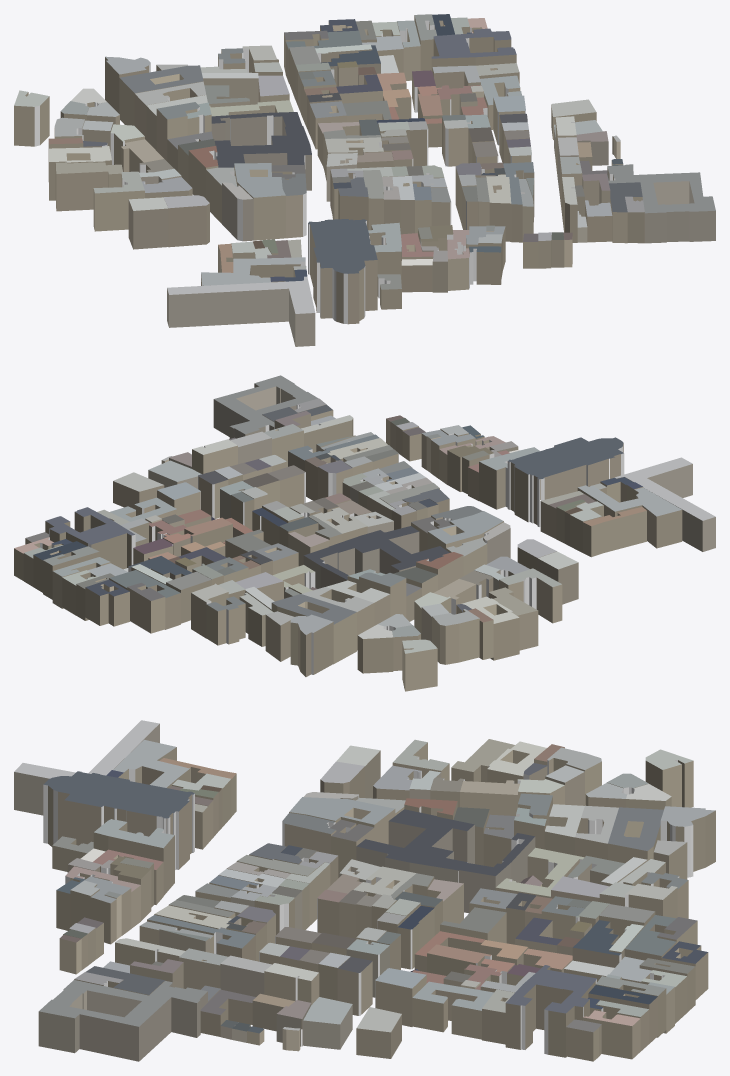
3 views of the same model, one above another, from view 1: azimuth 30°, elevation 25°; view 2: azimuth 150°, elevation 25°; view 3: azimuth 270°, elevation 25° (orthographic). The views are drawn at different scales.
Parts seen in each view (by area): view 1: tuile; view 2: tuile; view 3: tuile.
Part boxes in pixels (<box>): tuile: <box>14,14,715,346</box>; tuile: <box>14,375,715,691</box>; tuile: <box>14,720,715,1061</box>.
Bounding box in the file's own units: 289 × 30.41 × 285.
